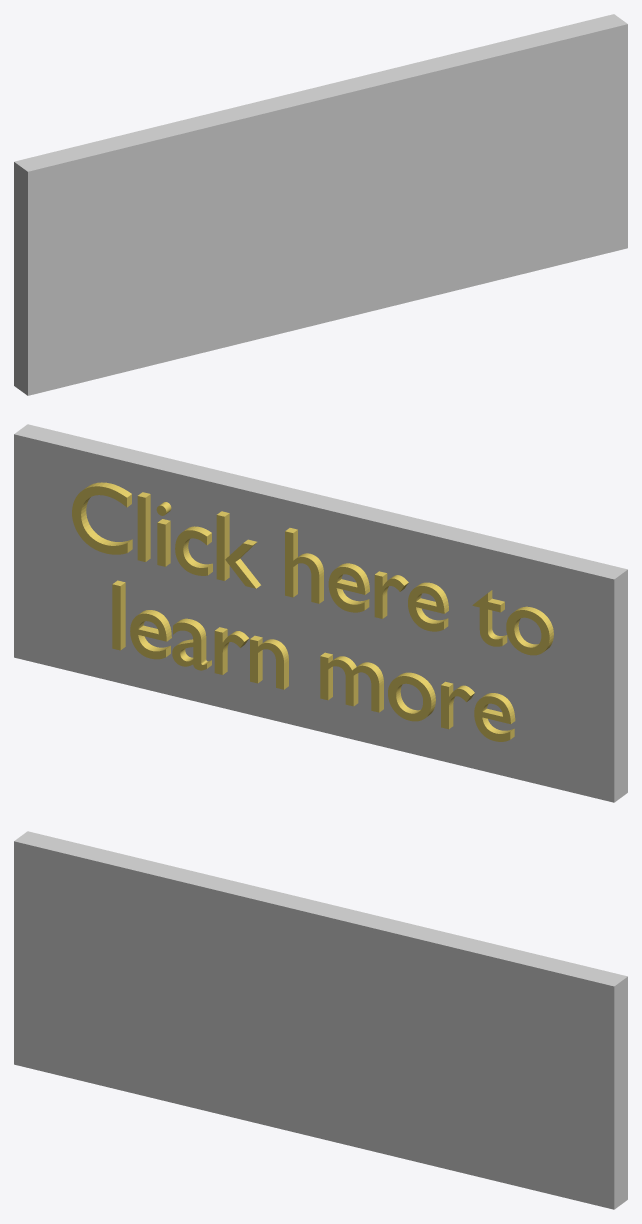
Rendered from infosign.glb.
The picture shows the model from 3 angles, top to bottom: view 1: azimuth 30°, elevation 25°; view 2: azimuth 150°, elevation 25°; view 3: azimuth 330°, elevation 25°; orthographic projection.
Visible parts, largest first — view 1: Plane.003; view 2: Plane.003, Text; view 3: Plane.003.
Boxes of the visible parts, x1,y1,x2,y2 form: Plane.003: [14, 14, 627, 395]; Plane.003: [14, 424, 627, 802]; Text: [72, 482, 553, 741]; Plane.003: [14, 831, 627, 1209].
Size of what is drawn, in the model's own units: 2.37 by 0.8451 by 0.1387.
